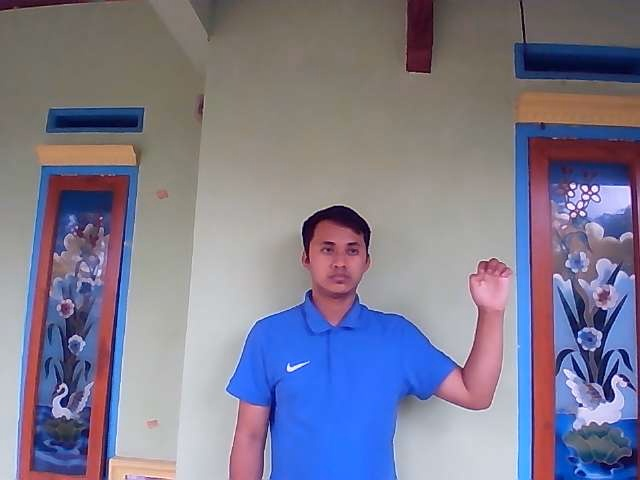E: (467, 257, 512, 310)
